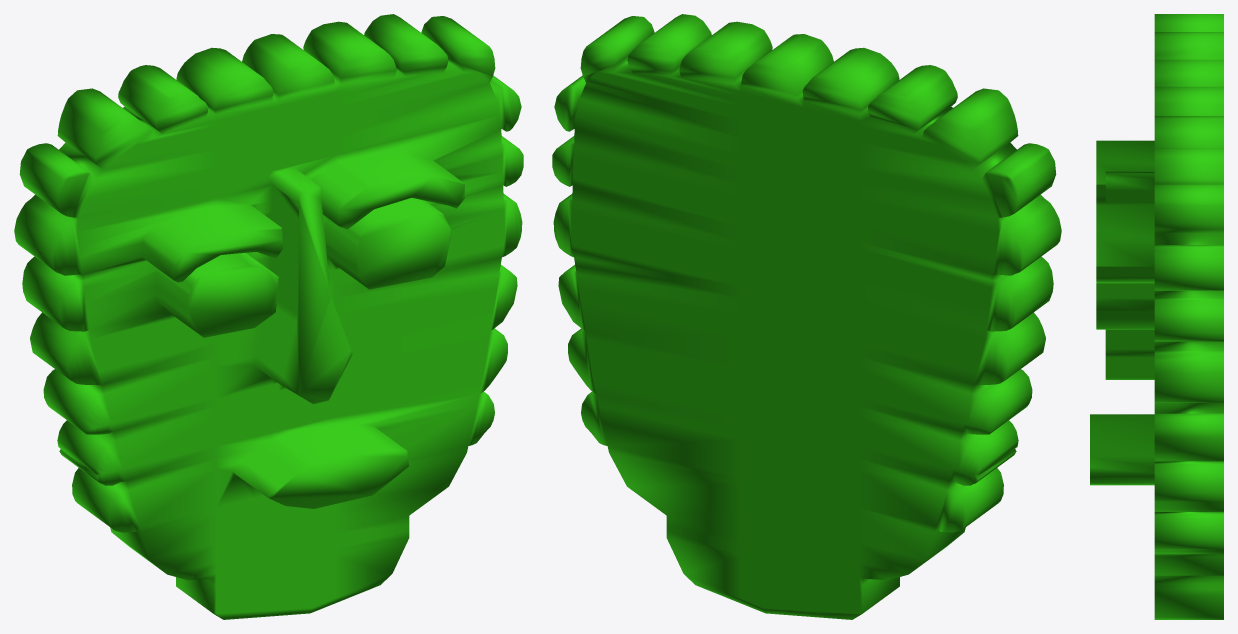
File: mask3.FBX
3 renders of one model, left to right at view 1: azimuth 30°, elevation 25°; view 2: azimuth 150°, elevation 25°; view 3: azimuth 270°, elevation 25°, orthographic. The views are drawn at different scales.
Parts seen in each view (by area): view 1: Box001; view 2: Box001; view 3: Box001.
Boxes of the visible parts, x1,y1,x2,y2 form: Box001: (14, 14, 523, 619); Box001: (552, 14, 1061, 619); Box001: (1090, 14, 1223, 619).
Size of the model in its own units: 14.23 by 15.93 by 3.81.
